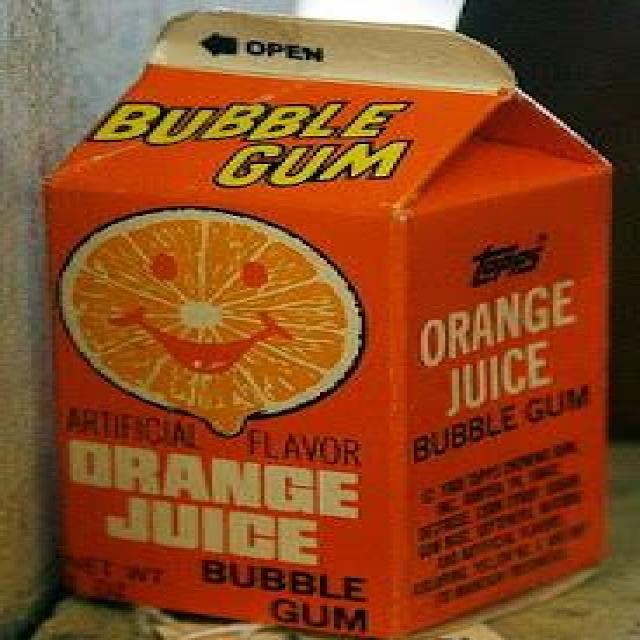drink carton: (42, 8, 616, 640)
